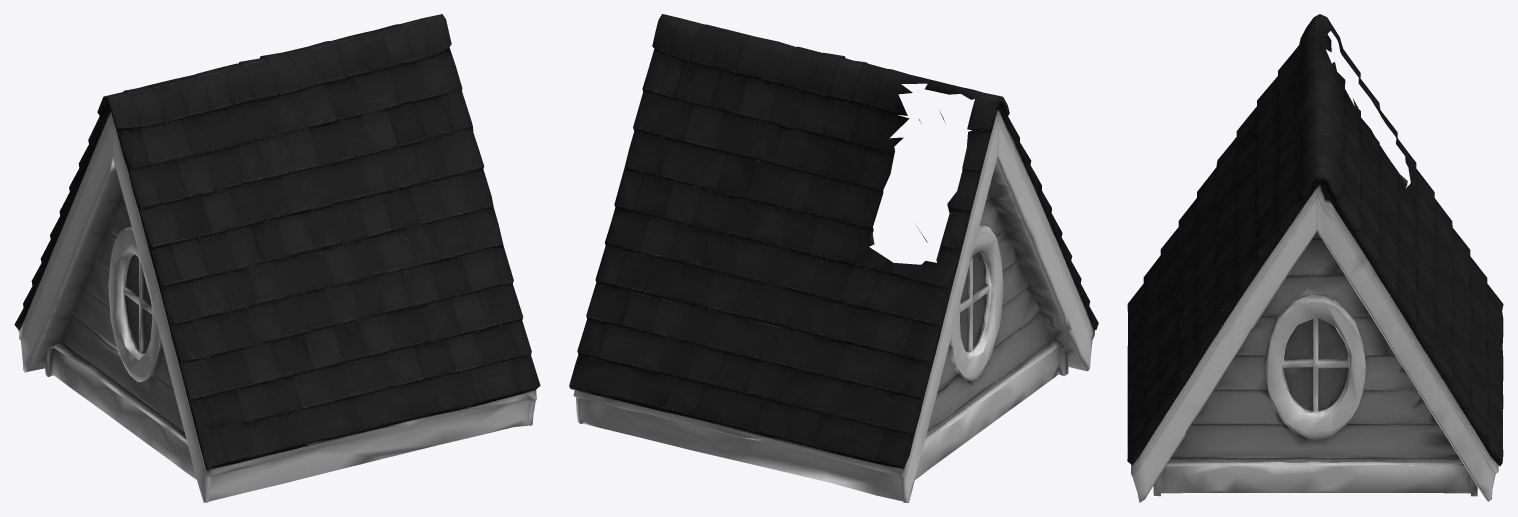
The model's file is kit-roof.glb.
3 views of the same model, side by side, from view 1: azimuth 30°, elevation 25°; view 2: azimuth 150°, elevation 25°; view 3: azimuth 270°, elevation 25° (orthographic). The views are drawn at different scales.
Visible parts, largest first — view 1: slopes, gables; view 2: slopes, gables; view 3: gables, slopes.
Part boxes in pixels (x1,y1,x2,y2): slopes: [55, 14, 540, 466]; gables: [14, 40, 539, 502]; slopes: [569, 14, 1057, 465]; gables: [569, 27, 1098, 502]; gables: [1127, 63, 1503, 502]; slopes: [1127, 14, 1503, 471].
Size of the model in its own units: 0.9996 by 0.9767 by 0.9997.
Materials: 1 (1 with a texture image).
